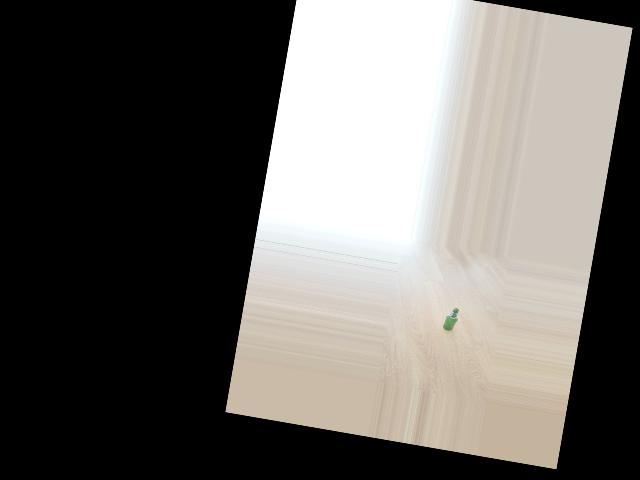beer: (441, 306, 459, 332)
